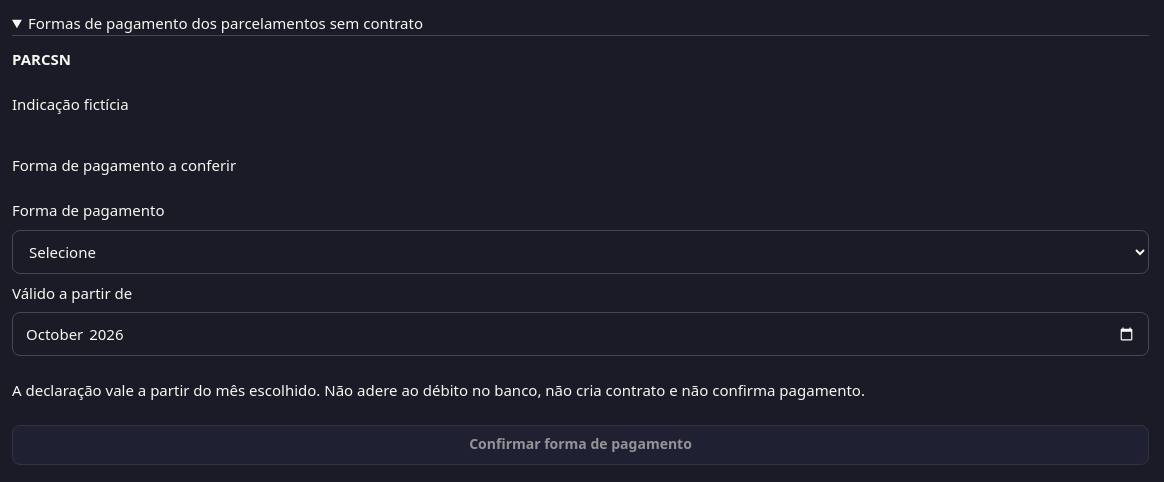
Test: falha de atualização externa conserva sucesso e histórico; vigência futura não altera mês exibido
Select "Débito automático" in the dropdown labelled "Forma de pagamento": [580, 252] box [12,230,1149,274]
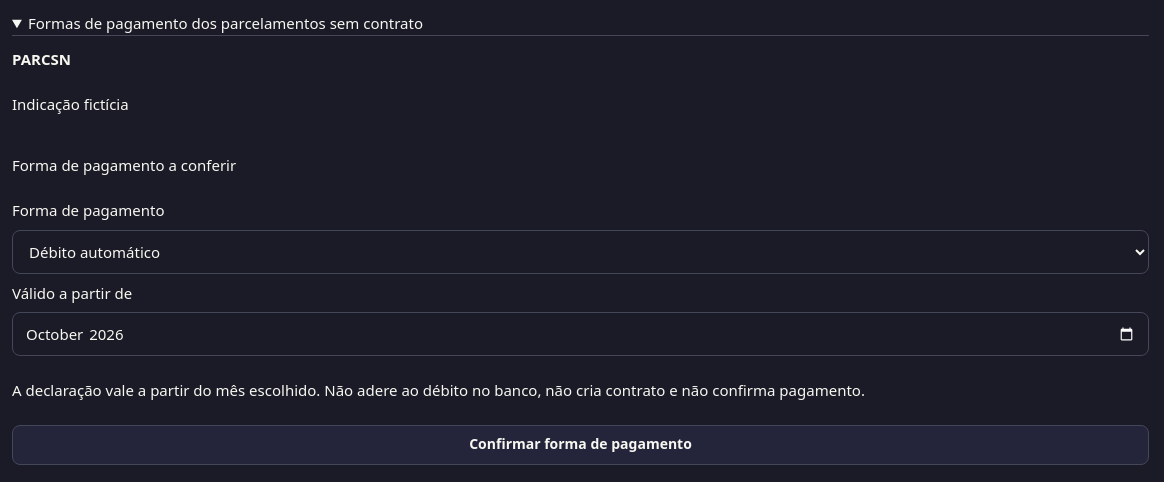
Replace the text in the field labelled "Válido a partir de" with "2026-11": [580, 334] box [12,312,1149,356]
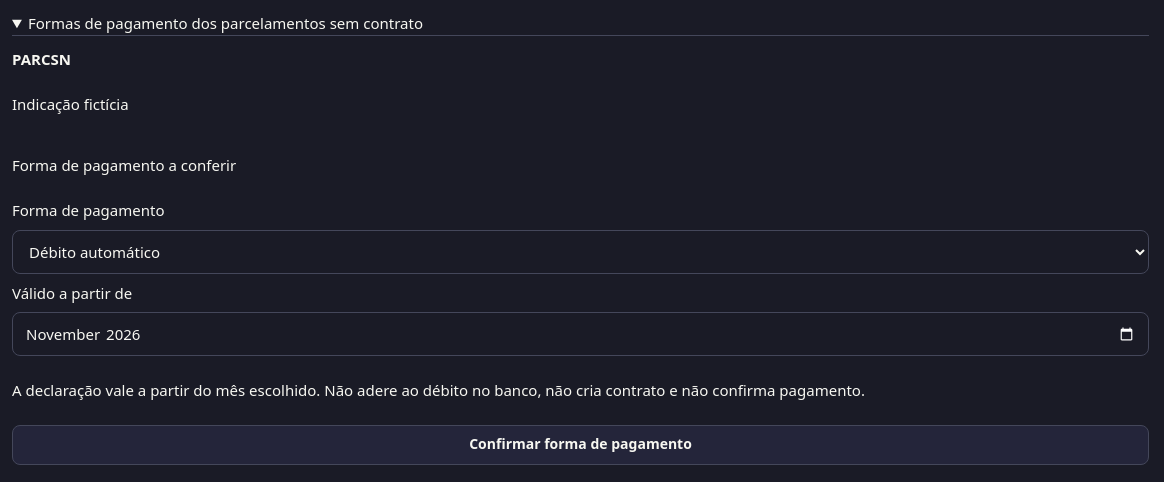
Click the button "Confirmar forma de pagamento": [580, 444] box [12,424,1149,464]
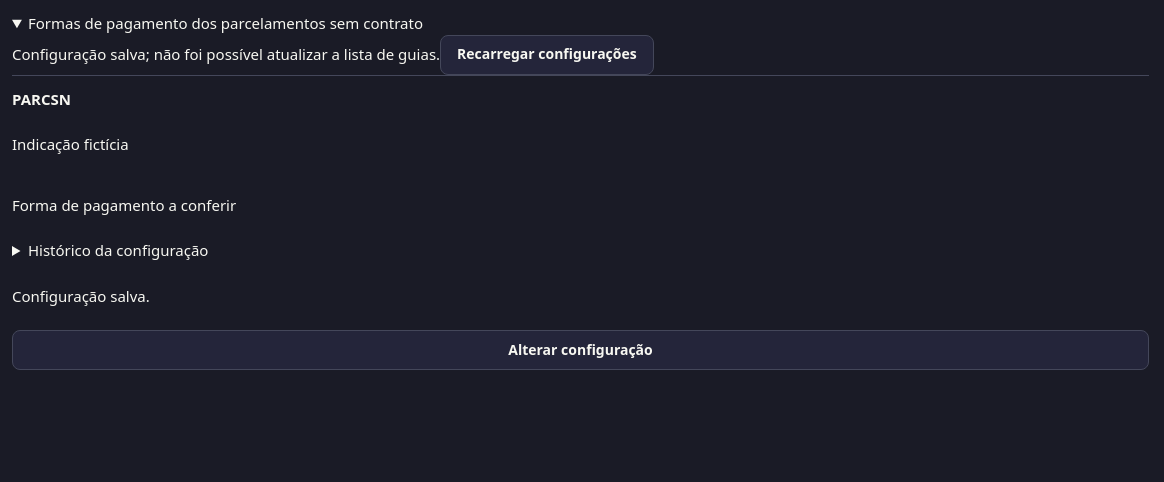
Check: the text "Configuração salva; não foi possível atualizar a lista de guias." is shown, box [12,43,440,63]
Check: the text "Configuração salva." is shown, box [12,286,150,306]
Check: the button "Alterar configuração" is enabled, box [12,330,1149,370]
